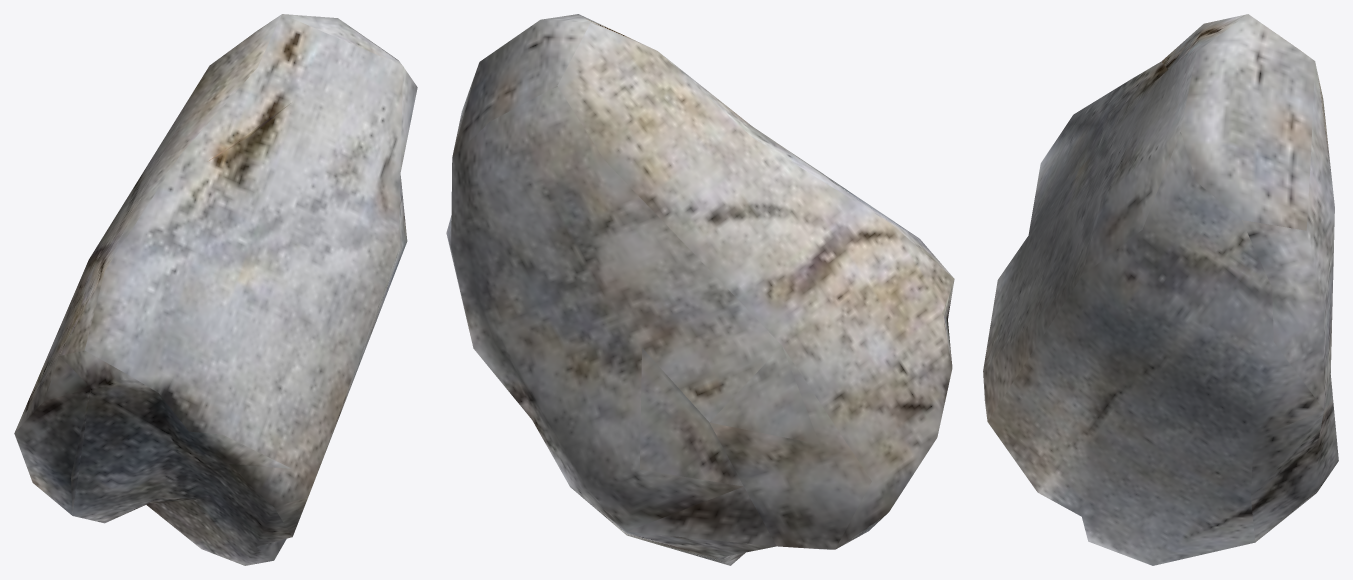
File: rock.glb
3 views of the same model, side by side, from view 1: azimuth 30°, elevation 25°; view 2: azimuth 150°, elevation 25°; view 3: azimuth 270°, elevation 25° (orthographic). The views are drawn at different scales.
Visible parts, largest first — view 1: rock038_lod4; view 2: rock038_lod4; view 3: rock038_lod4.
Boxes of the visible parts, x1,y1,x2,y2 form: rock038_lod4: [14, 14, 417, 565]; rock038_lod4: [446, 14, 954, 565]; rock038_lod4: [983, 14, 1338, 565].
Bounding box in the file's own units: 1 × 1.14 × 0.6219.
Materials: 1 (1 with a texture image).
